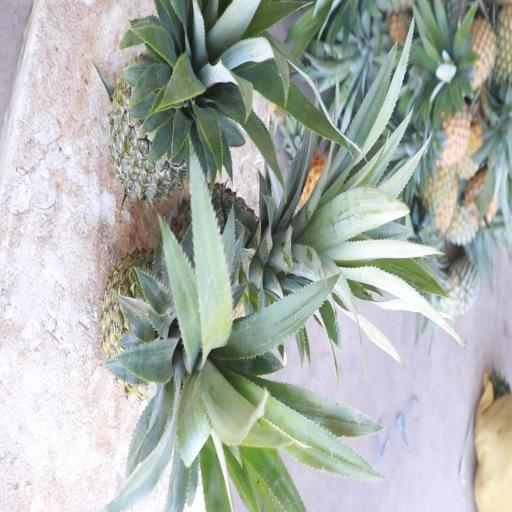------------------------------: (98, 243, 257, 409)
Pineapple - v8 v1: (452, 10, 503, 90), (431, 99, 479, 158)
